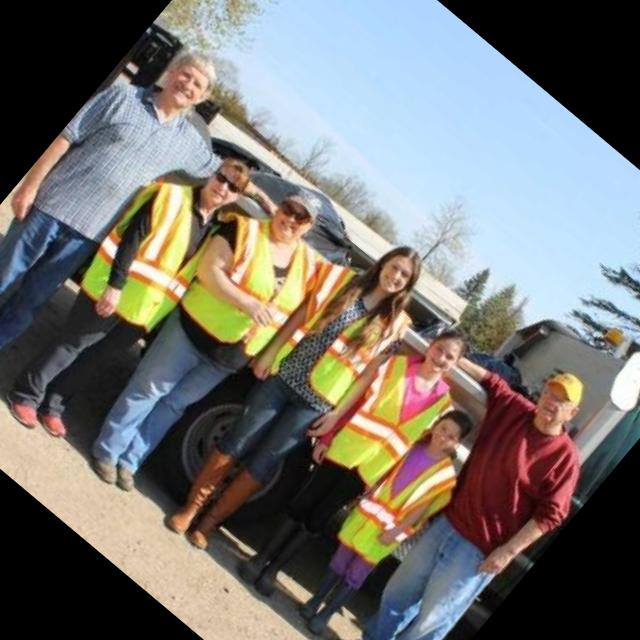safety_vest: (75, 170, 244, 345), (178, 206, 336, 370), (334, 430, 470, 576), (322, 354, 454, 494), (288, 293, 407, 419)
vehicle: (150, 223, 452, 562), (50, 162, 353, 496), (325, 358, 640, 640), (0, 17, 237, 390), (220, 305, 492, 608), (0, 134, 265, 443), (277, 402, 496, 640)
work_boots: (143, 472, 216, 547), (20, 380, 90, 450), (66, 426, 136, 496), (92, 437, 158, 505), (178, 499, 238, 561), (0, 371, 53, 440), (283, 570, 342, 631), (222, 529, 280, 589), (244, 550, 302, 610), (297, 591, 346, 640), (315, 609, 384, 640)
